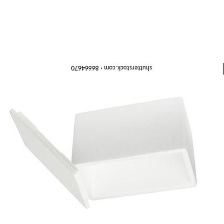foam_box: (5, 94, 200, 213)
